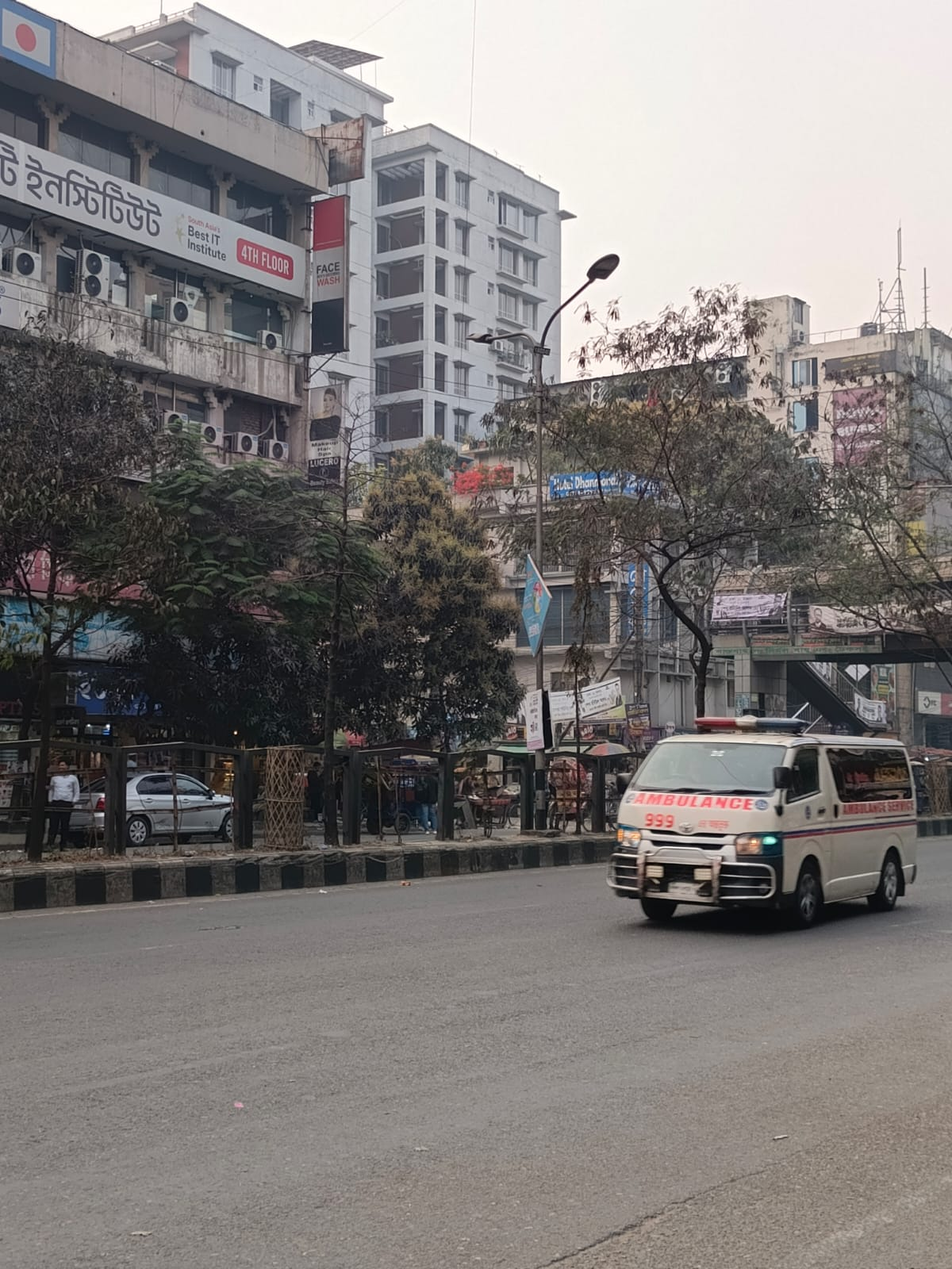Ambulance: (595, 699, 931, 925)
